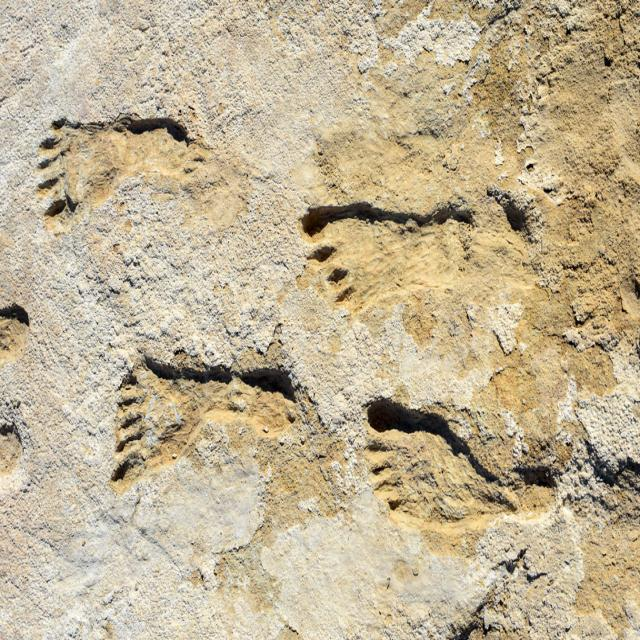human_footprint: (23, 86, 640, 570)
